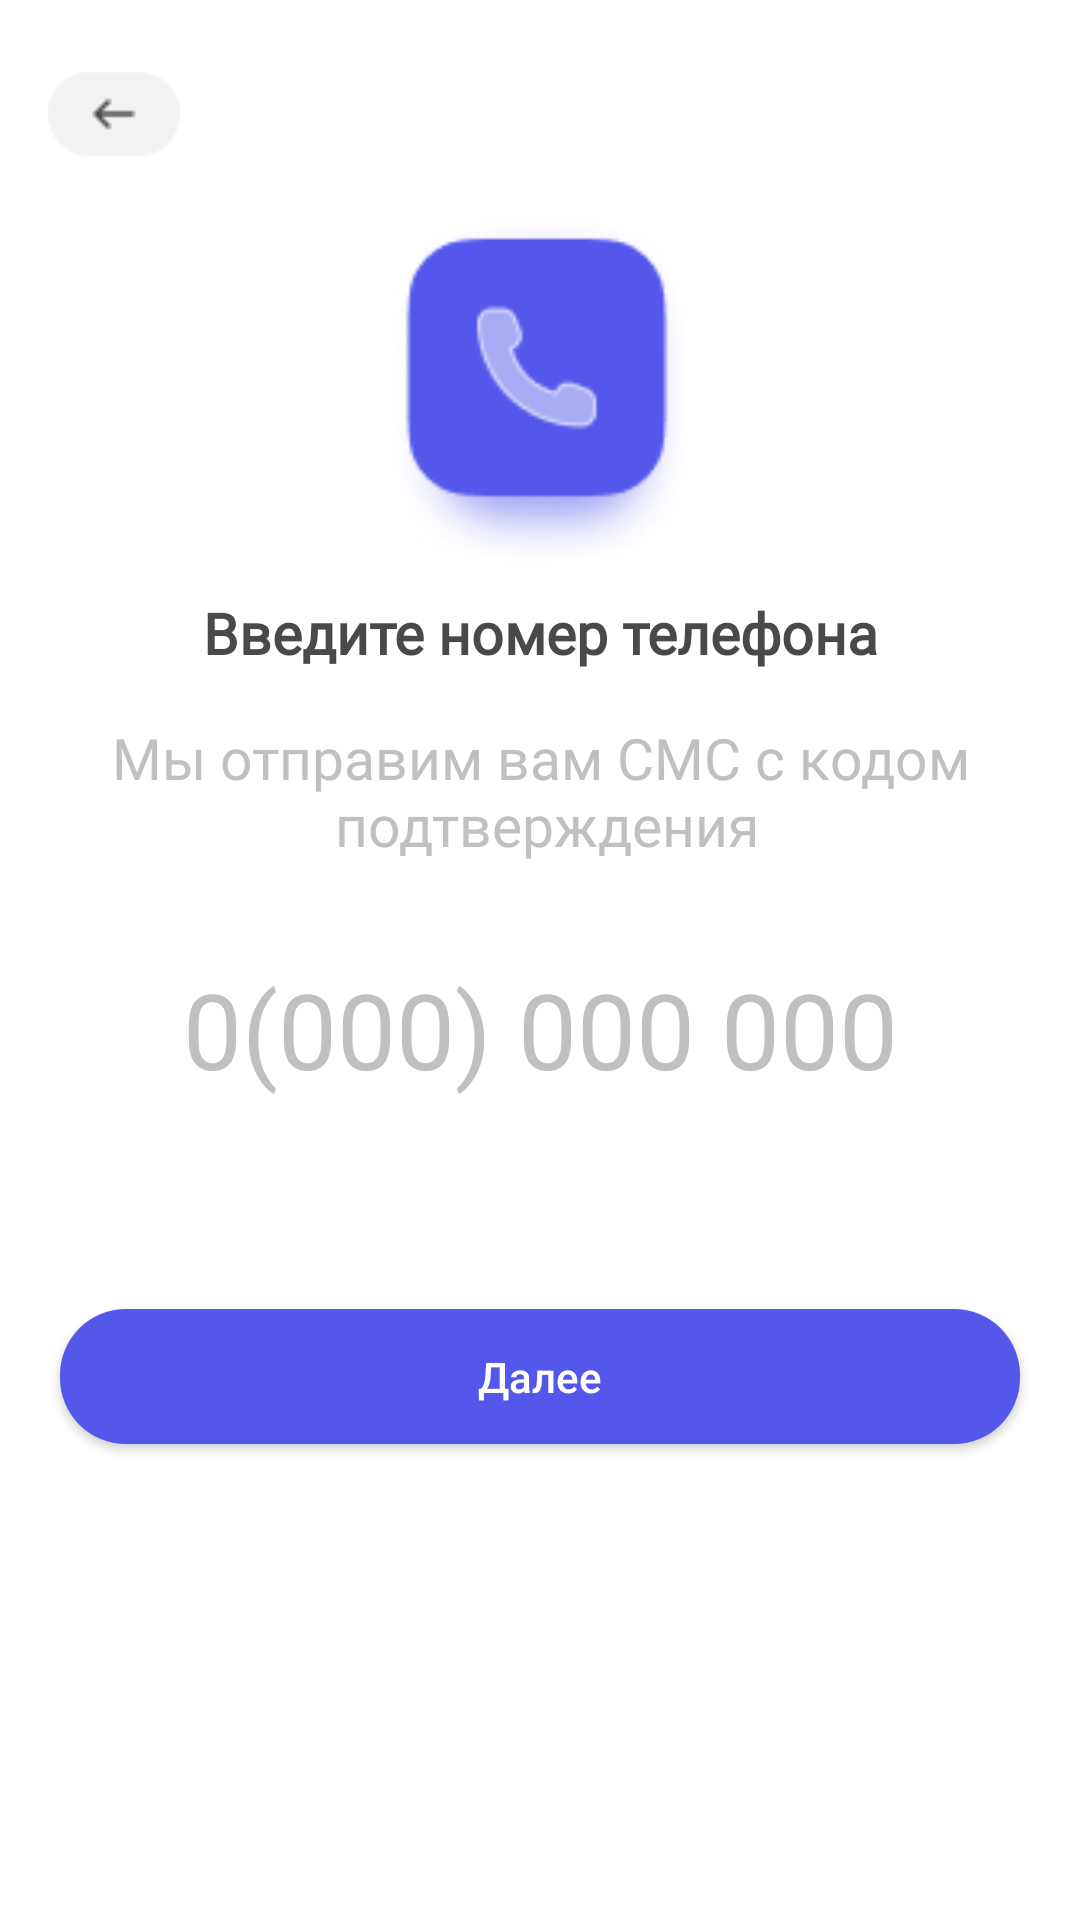

Locate icon controls on the screen. Image size 1080 × 1920, boxes as (x1, y1, x2, y2).
backbtn: (48, 72, 180, 156)
phone: (406, 238, 668, 534)
